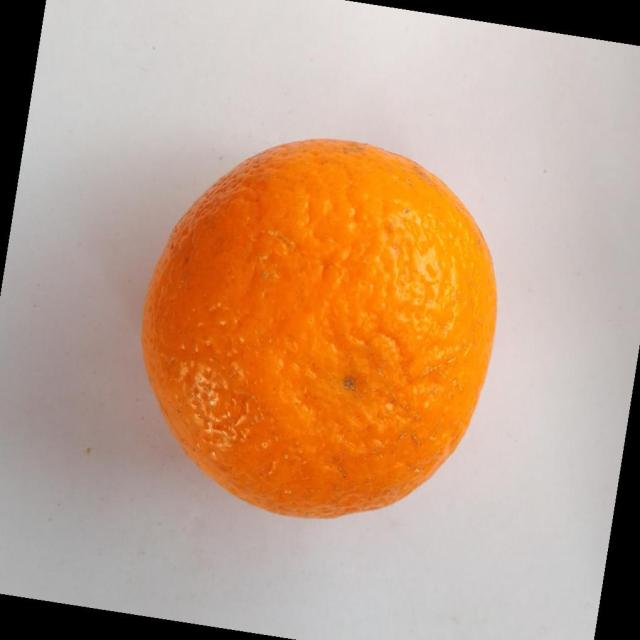fresh orange: (140, 136, 498, 520)
